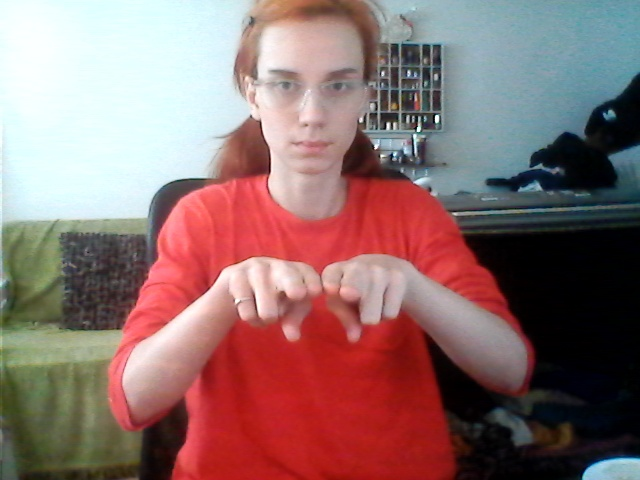brat: (218, 247, 418, 359)
